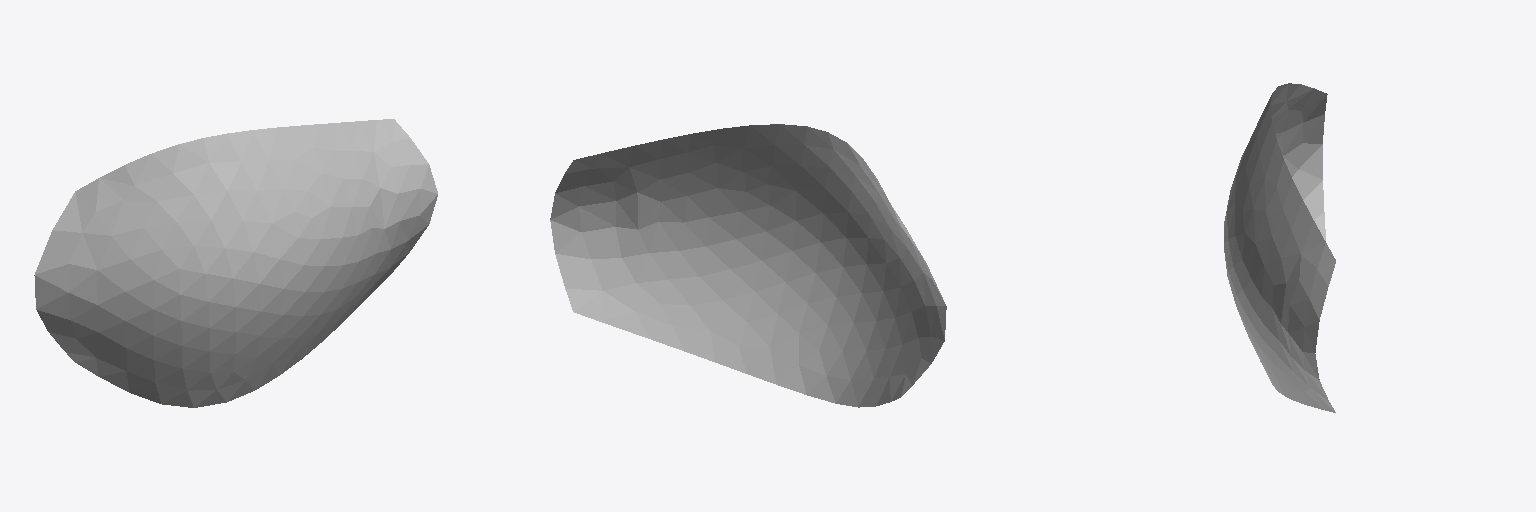
File: shell_2_opt.obj
The picture shows the model from 3 angles: view 1: azimuth 30°, elevation 25°; view 2: azimuth 150°, elevation 25°; view 3: azimuth 270°, elevation 25°; orthographic projection.
Visible parts, largest first — view 1: [local-path]\Google_Drive\PS_structures\source\samples/shell_2_o; view 2: [local-path]\Google_Drive\PS_structures\source\samples/shell_2_o; view 3: [local-path]\Google_Drive\PS_structures\source\samples/shell_2_o.
Boxes of the visible parts, x1,y1,x2,y2 form: [local-path]\Google_Drive\PS_structures\source\samples/shell_2_o: [34, 119, 437, 407]; [local-path]\Google_Drive\PS_structures\source\samples/shell_2_o: [550, 124, 946, 407]; [local-path]\Google_Drive\PS_structures\source\samples/shell_2_o: [1224, 83, 1335, 412].
Size of the model in its own units: 44 by 28.29 by 10.75.